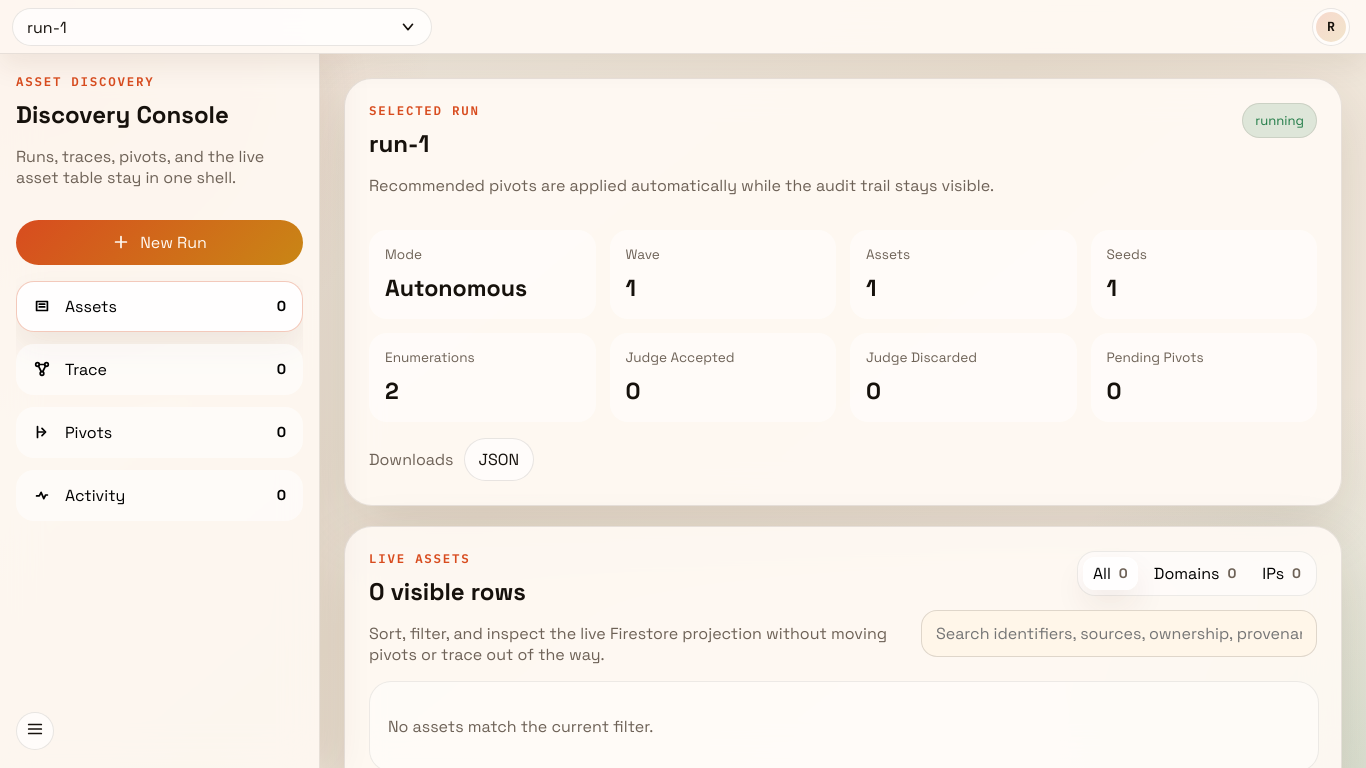
Test: App › closes the popup and shows a generic message when a download preflight fails
Click the button "JSON" at (499, 460), box [464,438,534,481]
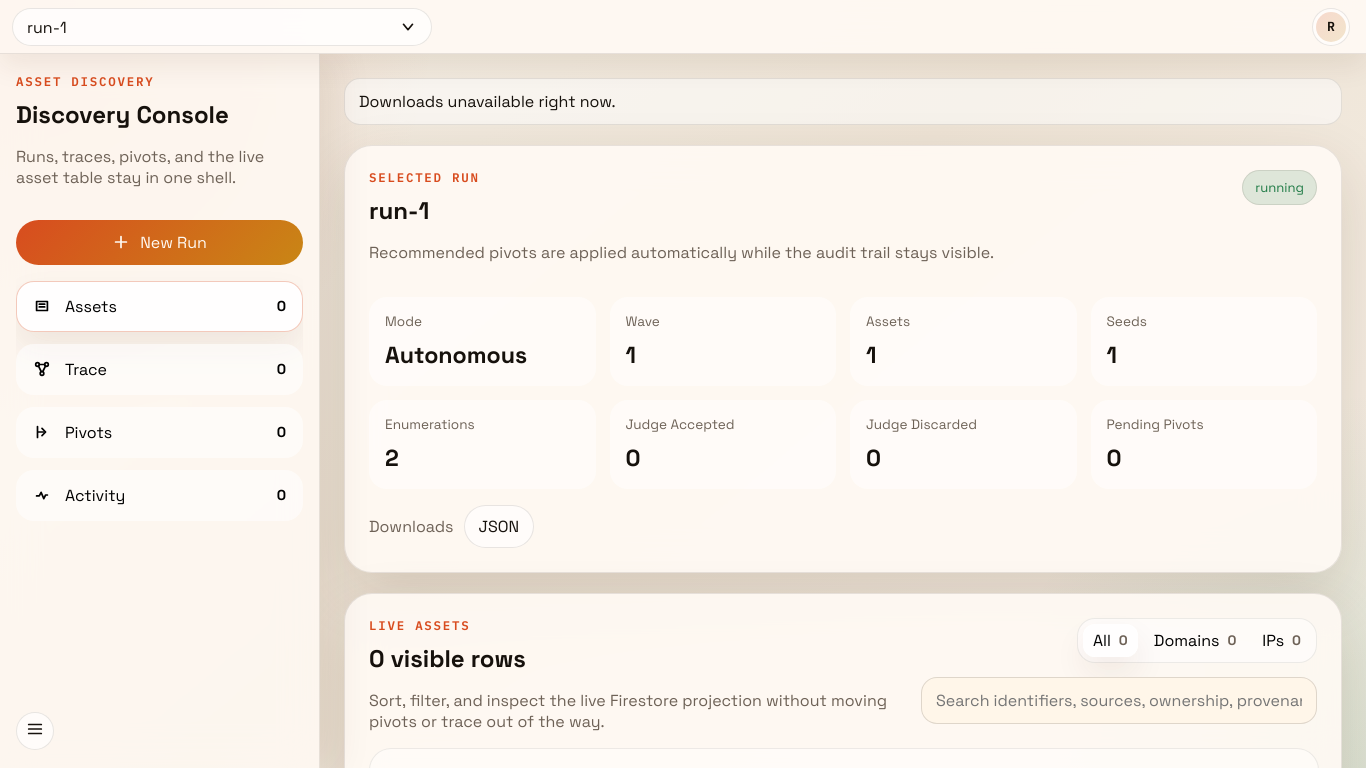
Result: the text "Downloads unavailable right now." is shown at [344,78,1342,125]
